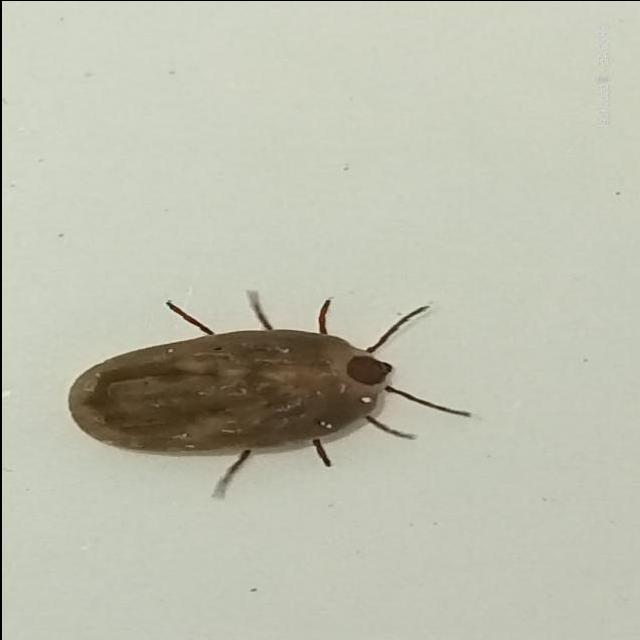Rhipicephalus Sanguineus-F-Fed: (66, 288, 473, 499)
